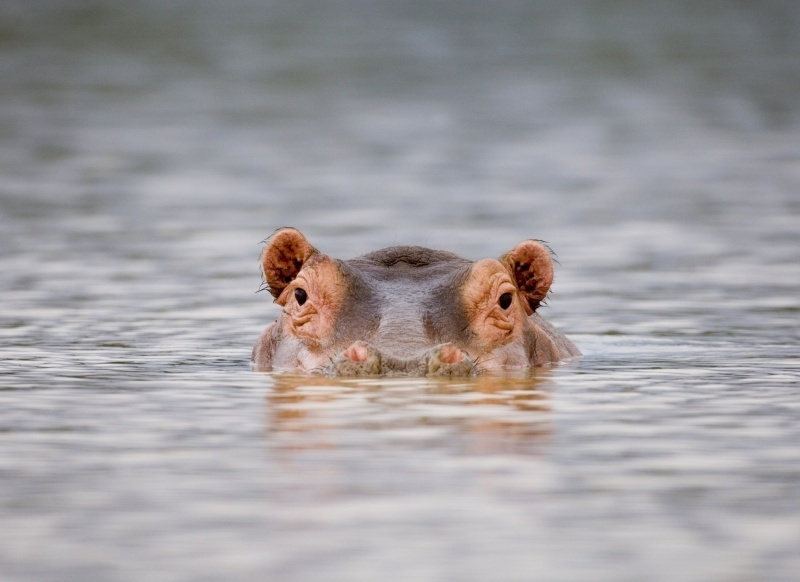hipopotamo: (227, 218, 605, 409)
